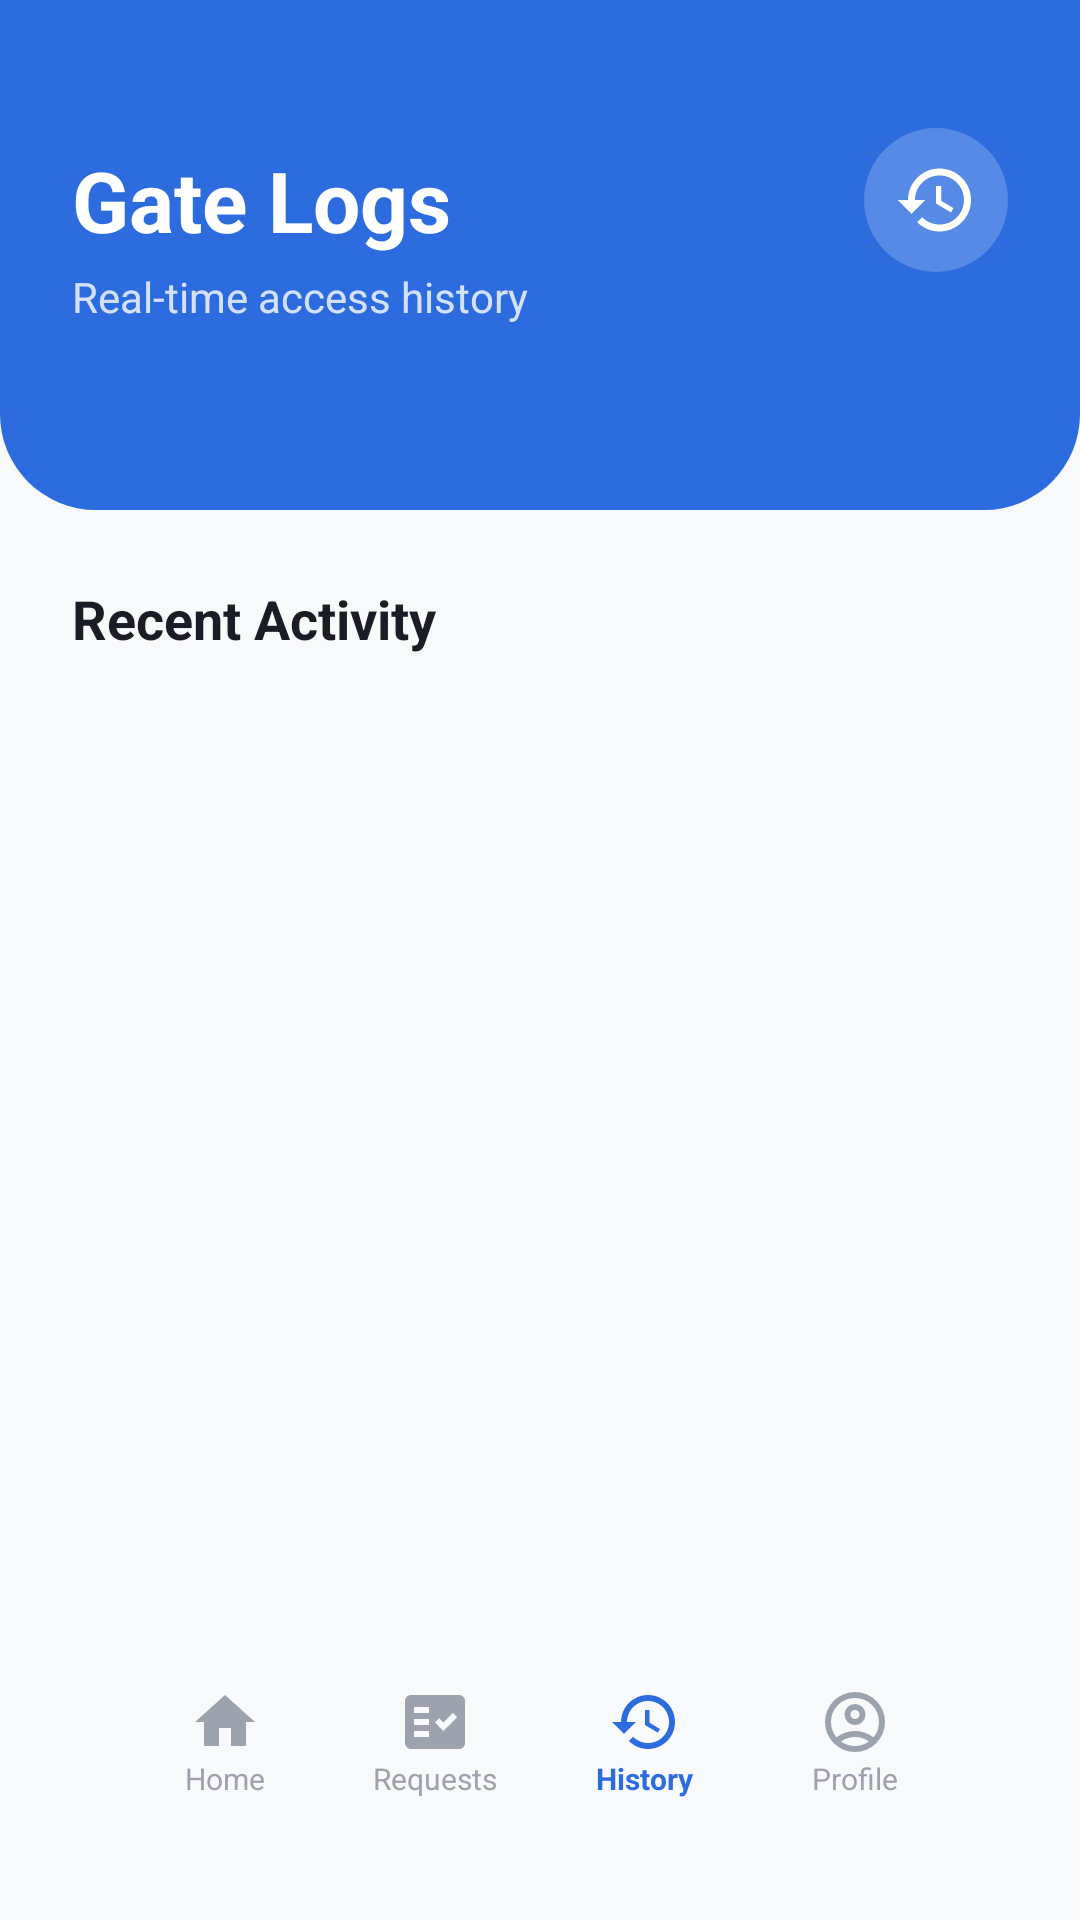

Named icons in this screenshot (1080px×1920px) and their centers, [x,y]:
fact check: [435,1722]
